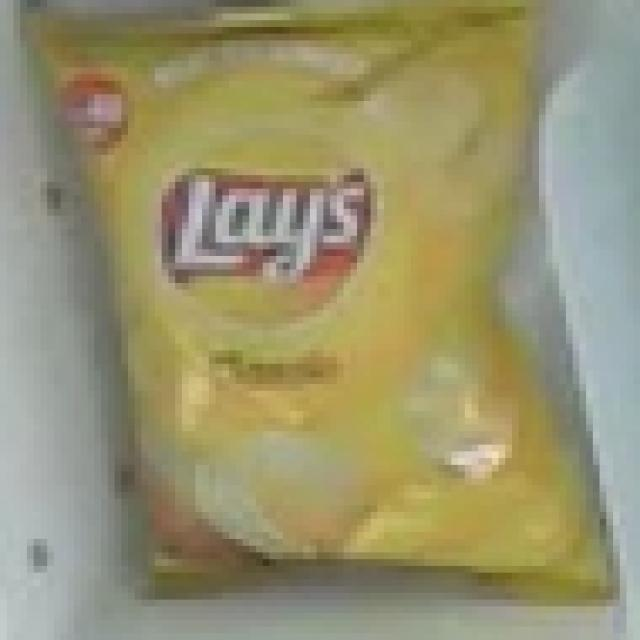Plastic: (23, 14, 595, 588)
